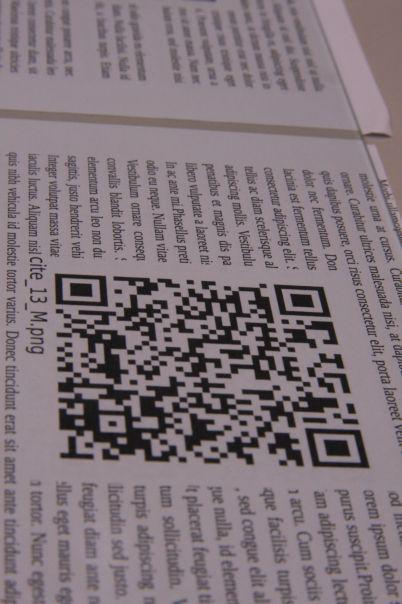Finder pattern: (300, 421, 375, 475), (48, 266, 119, 312), (266, 276, 335, 320)
